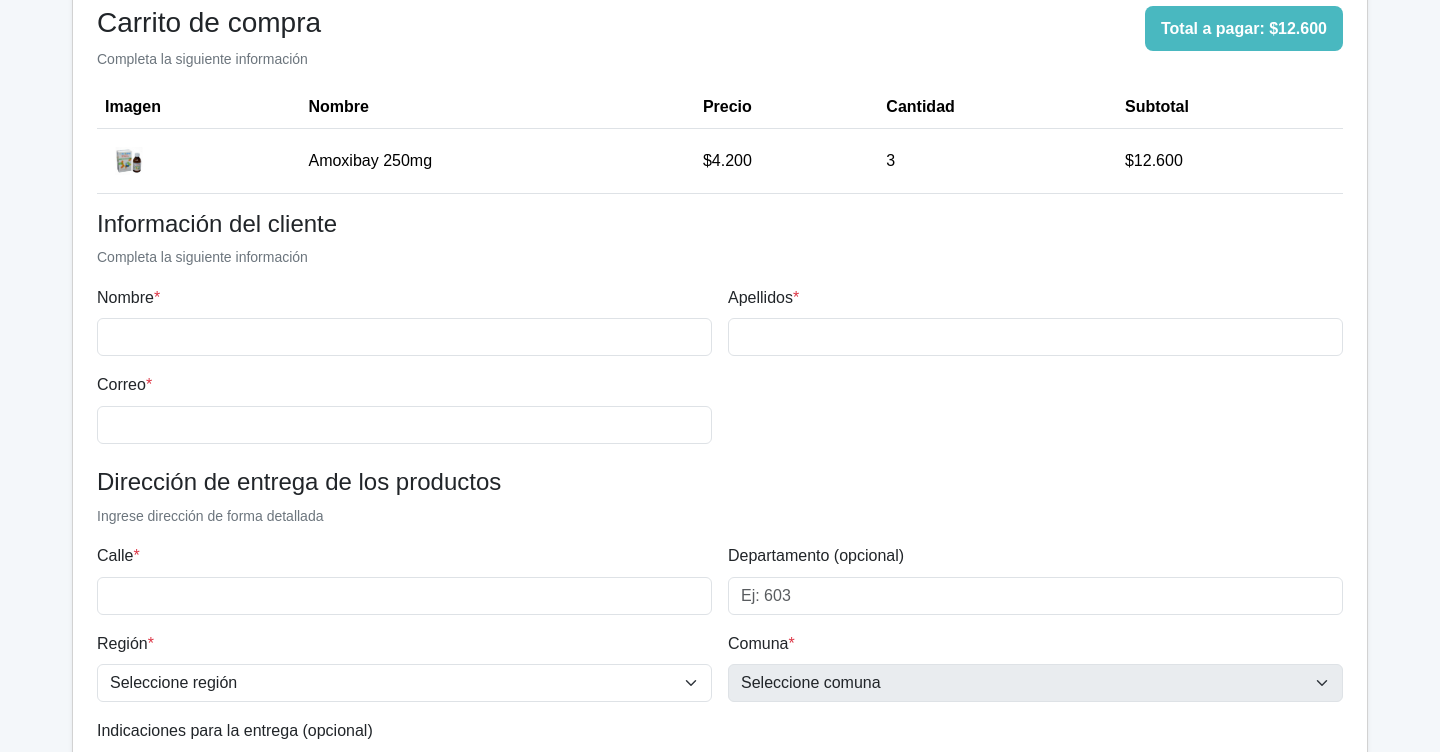
Test: Carrito › paga, muestra la compra realizada y vacía el carrito cuando el banco aprueba
This screenshot has width=1440, height=752.
expect the text "Total a pagar: $12.600" is shown: met, box [1145,6,1343,51]
Type "Pedro" into the field labelled "Nombre*".
click(404, 337); type("Pedro")  # box [97,318,712,356]
Type "Soto" into the field labelled "Apellidos*".
click(1036, 337); type("Soto")  # box [728,318,1343,356]
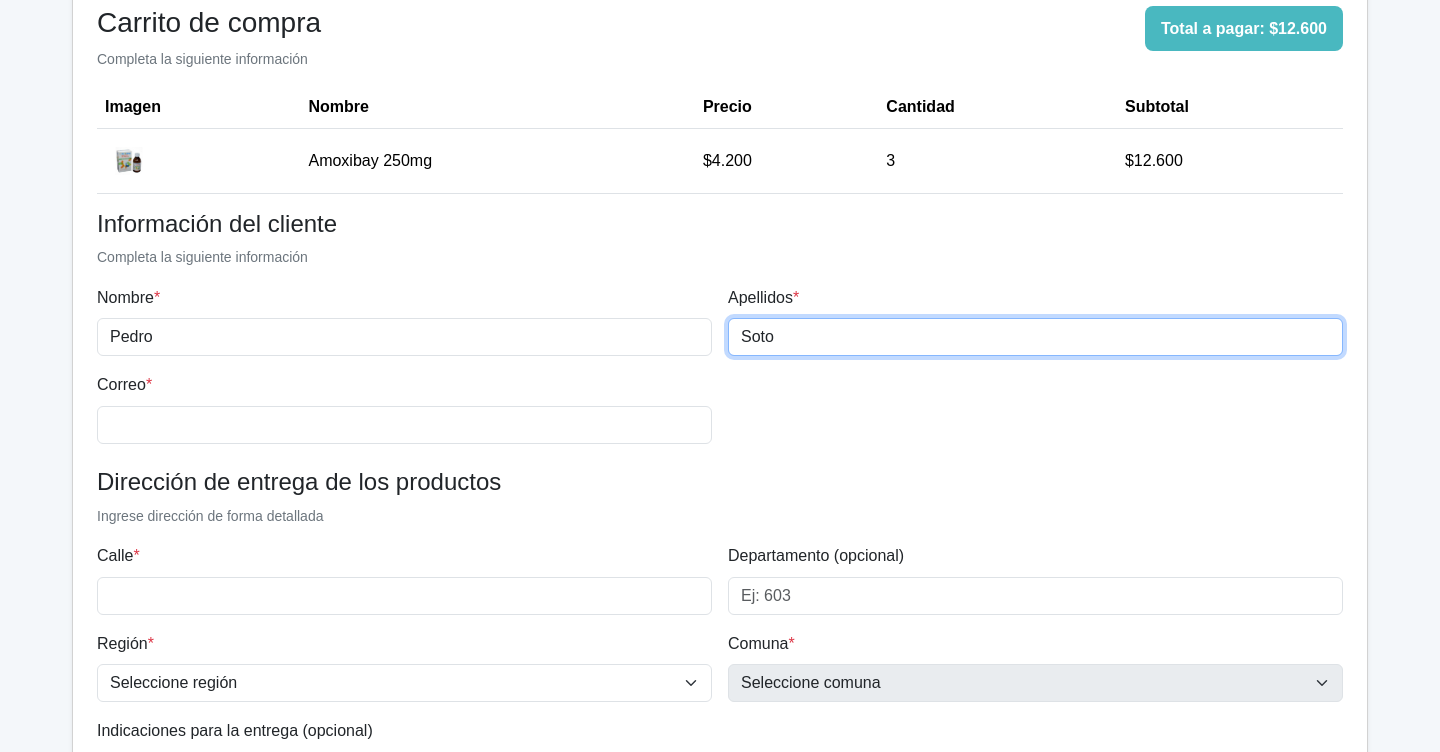
Type "pedro@correo.cl" into the field labelled "Correo*".
click(404, 425); type("pedro@correo.cl")  # box [97,406,712,444]
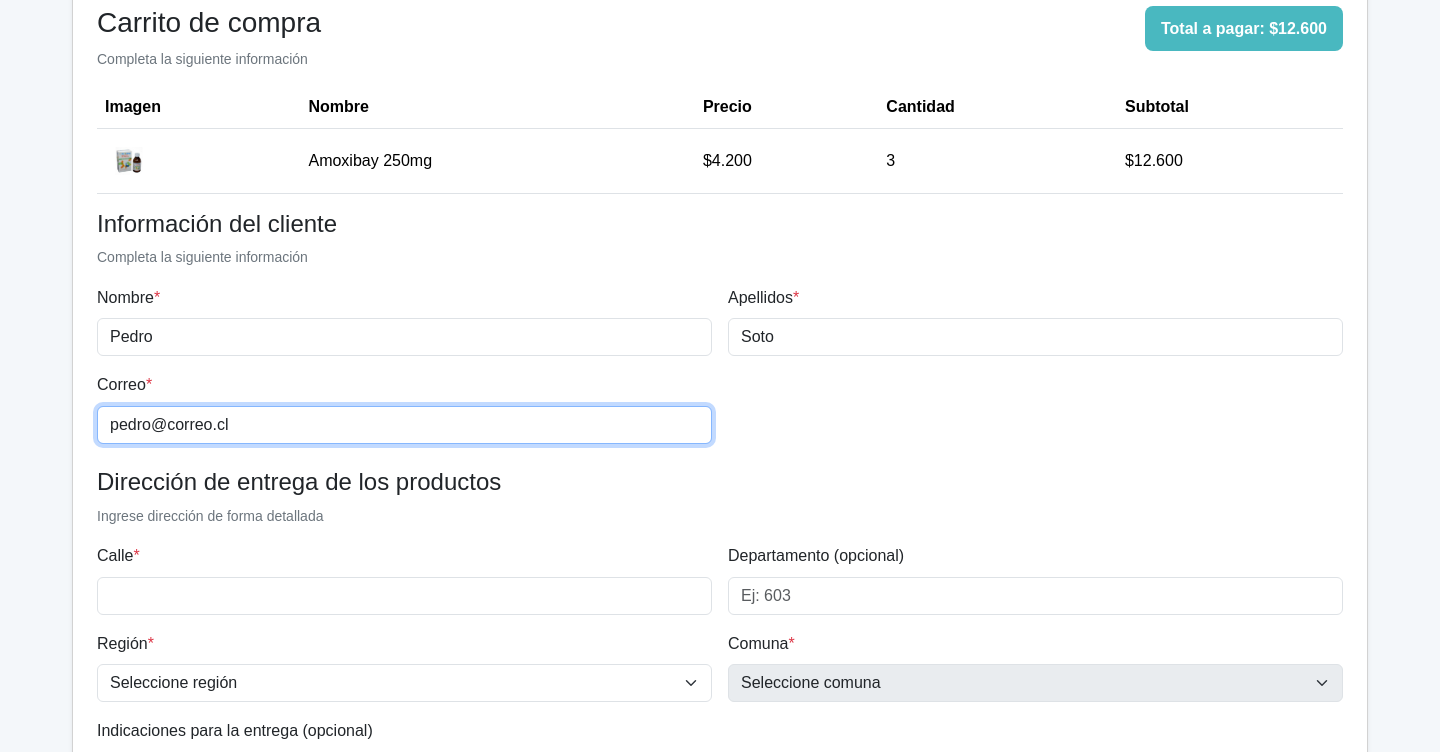
Type "Los Crisantemos 123" into the field labelled "Calle*".
click(404, 596); type("Los Crisantemos 123")  # box [97,577,712,615]
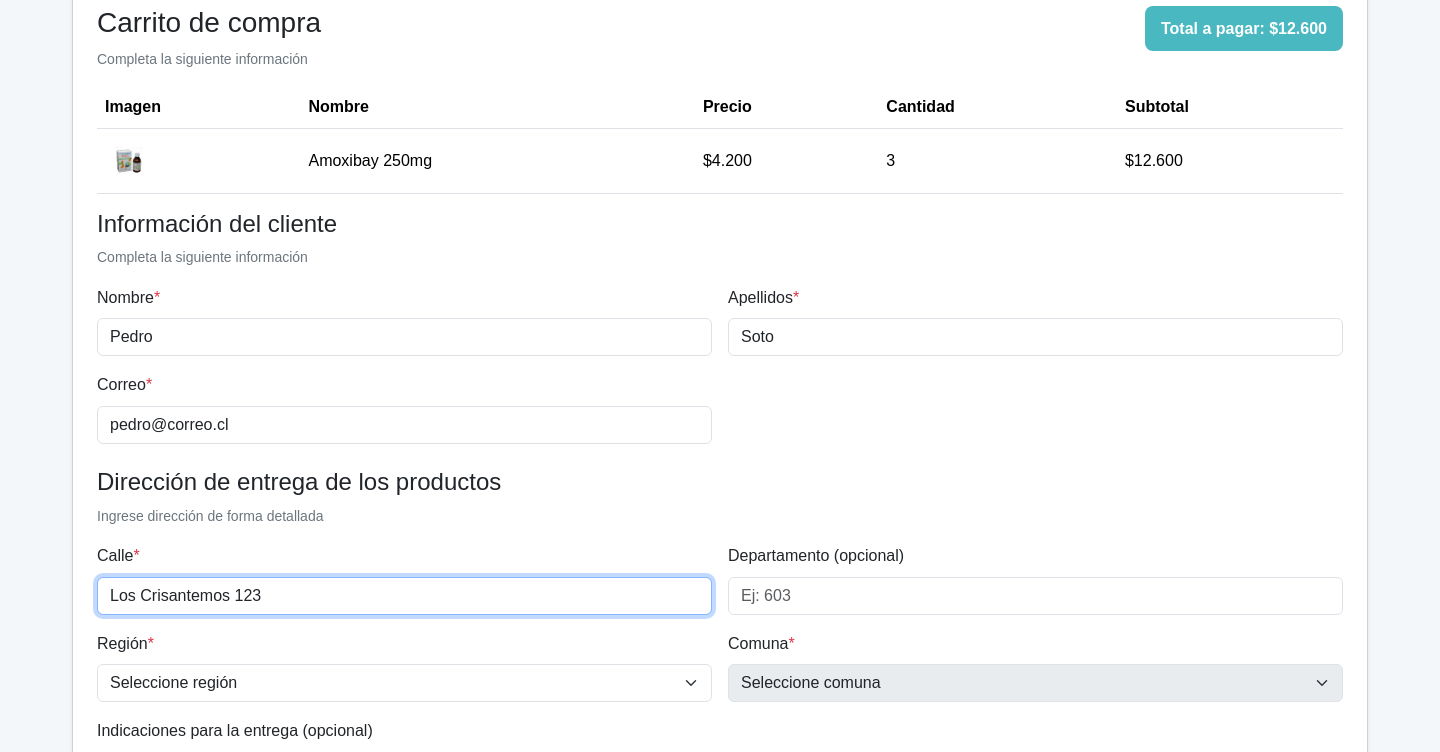
Select "Región Metropolitana" in the dropdown labelled "Región*" at (404, 683), box [97,664,712,702]
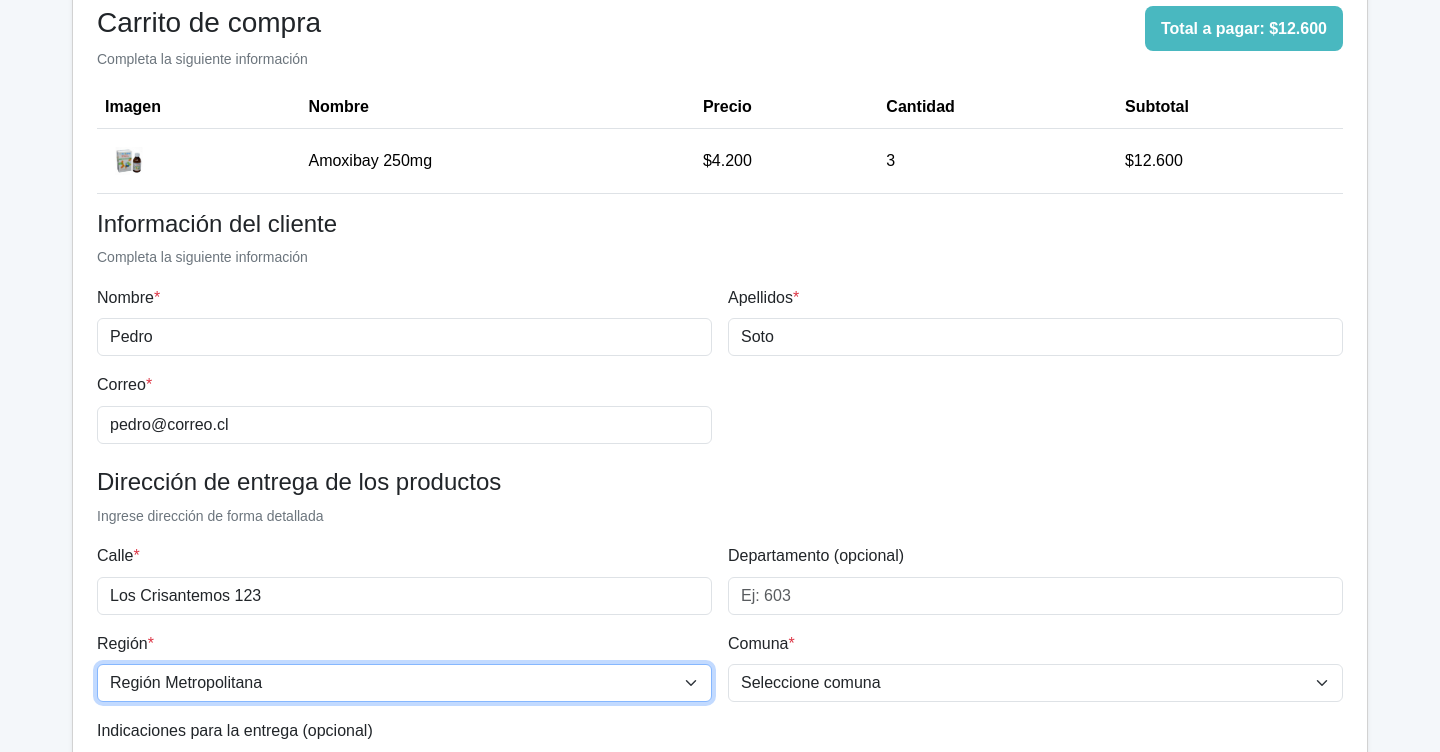
Select "Santiago" in the dropdown labelled "Comuna*" at (1036, 683), box [728,664,1343,702]
(page scrolled)
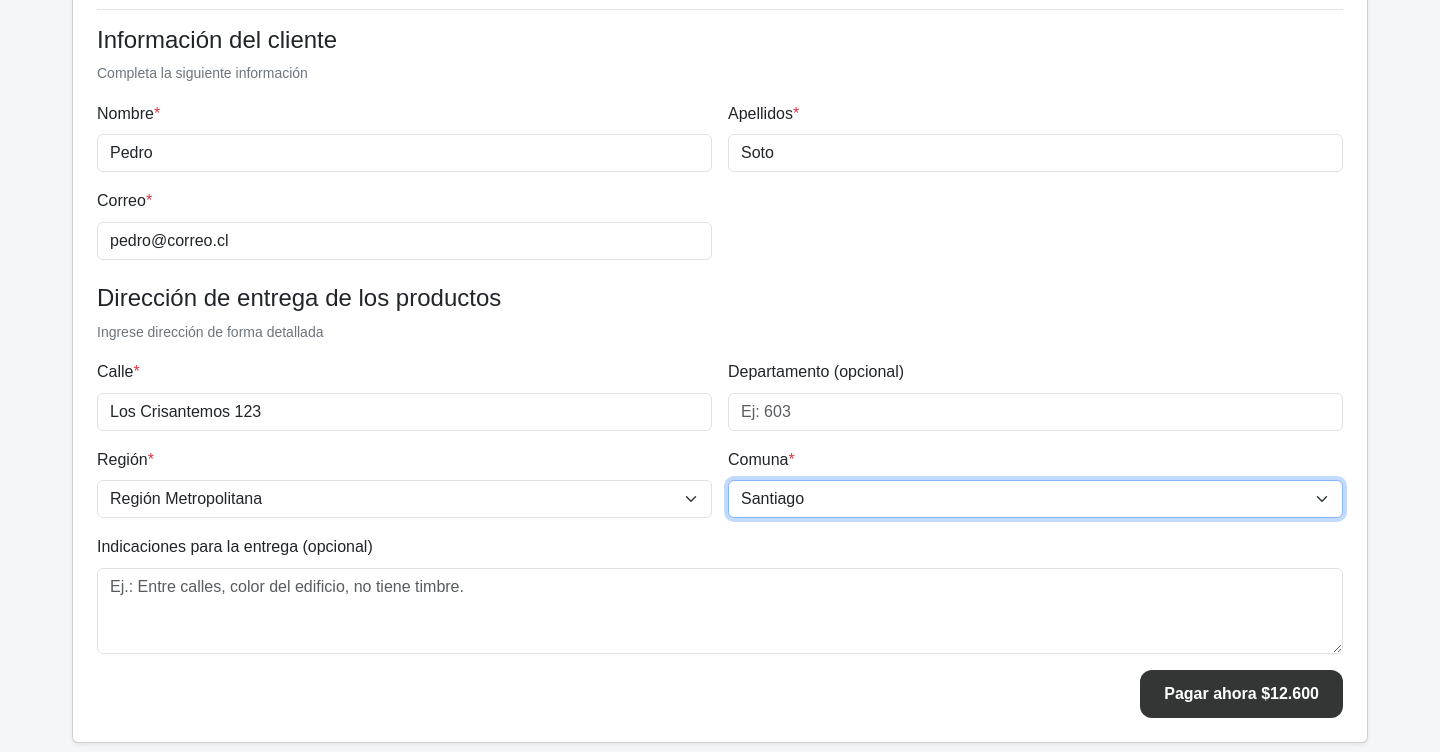
Click the button "Pagar ahora $12.600".
click(1242, 694)  # box [1140,670,1343,718]
(page scrolled)
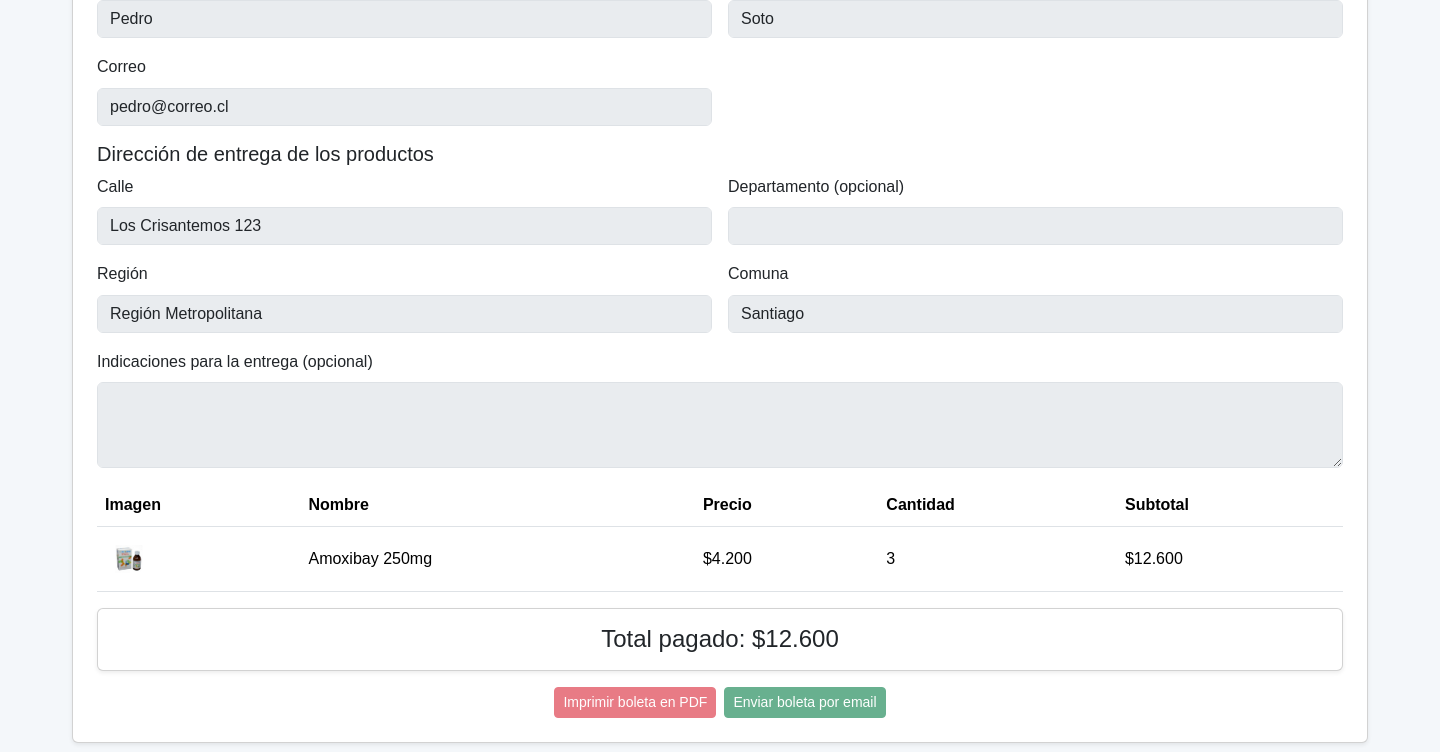
expect the text "Total pagado: $12.600" is shown: met, box [601,625,839,652]
